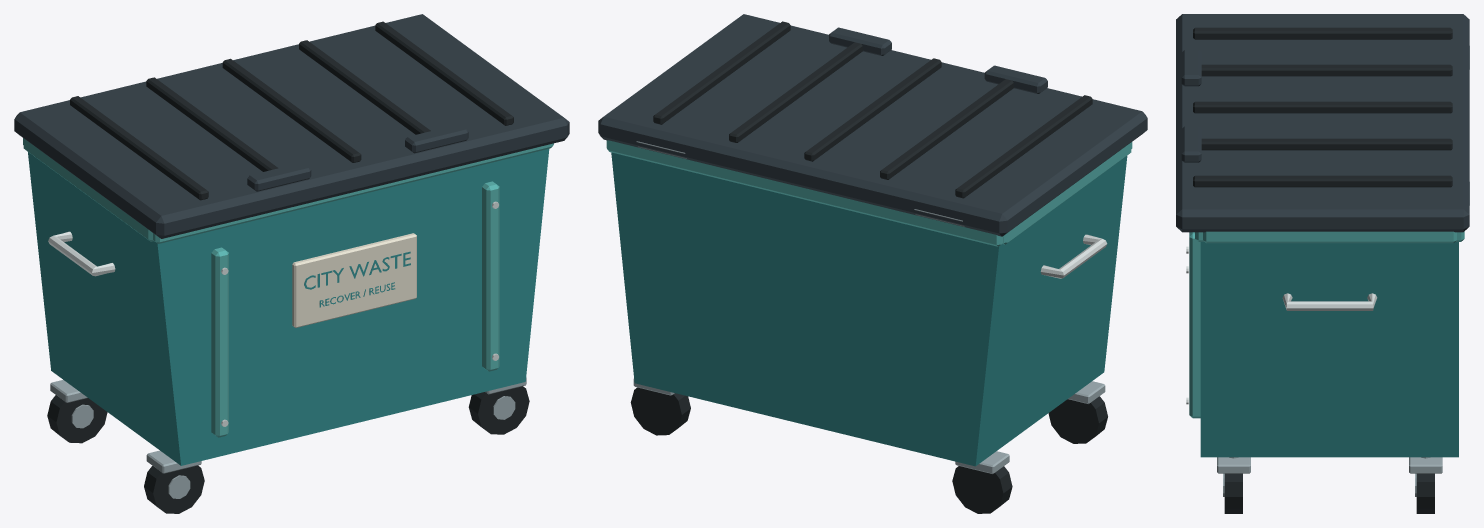
The model's file is Dumpster_Closed_Detailed.glb.
3 renders of one model, left to right at view 1: azimuth 30°, elevation 25°; view 2: azimuth 150°, elevation 25°; view 3: azimuth 270°, elevation 25°, orthographic.
Parts seen in each view (by area): view 1: Dumpster_Closed_Detailed; view 2: Dumpster_Closed_Detailed; view 3: Dumpster_Closed_Detailed.
Part boxes in pixels (<box>): Dumpster_Closed_Detailed: <box>14,14,569,513</box>; Dumpster_Closed_Detailed: <box>598,14,1147,513</box>; Dumpster_Closed_Detailed: <box>1176,14,1469,513</box>.
Bounding box in the file's own units: 1.78 × 1.3 × 1.04.
